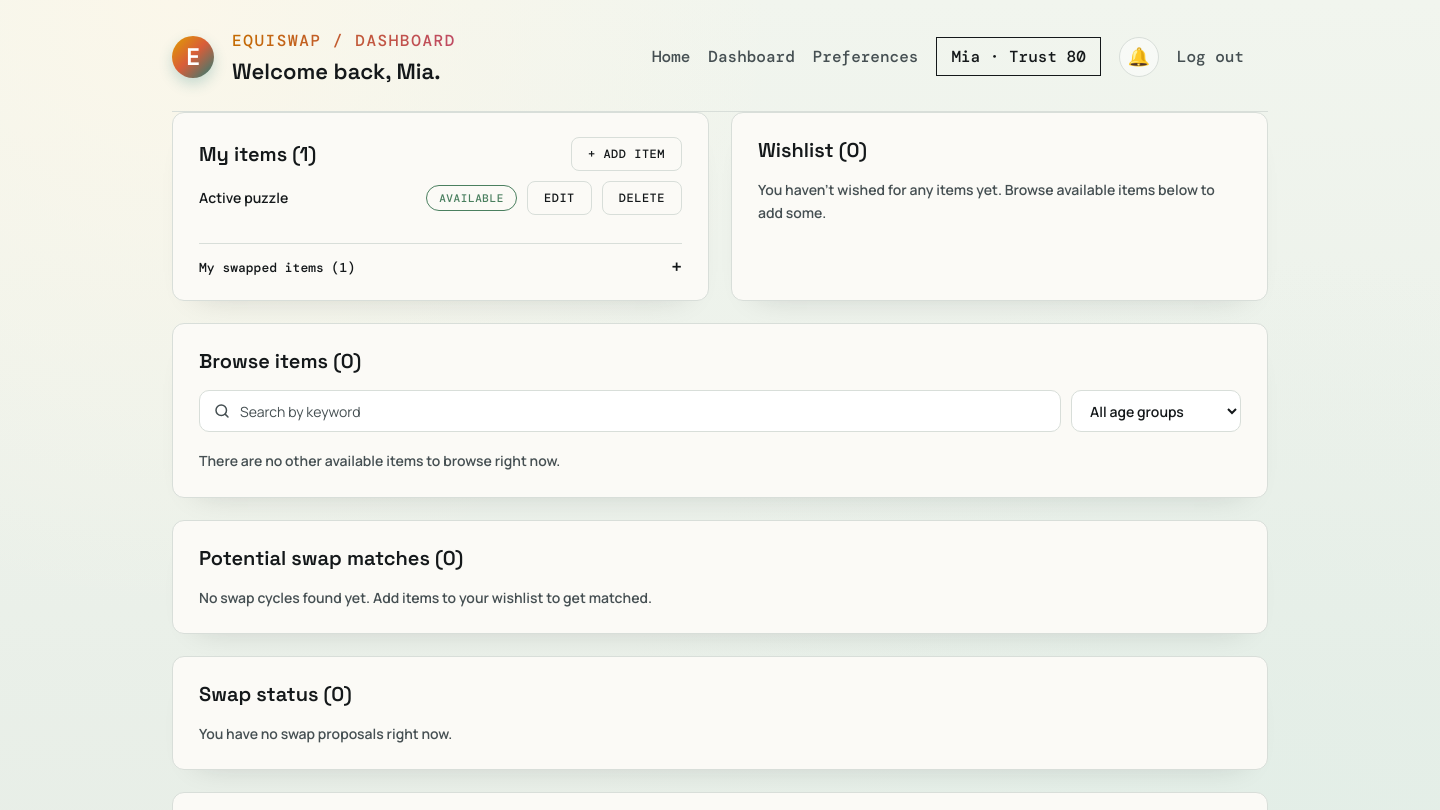
Test case: DashboardPage › moves swapped items to a read-only section
The image size is (1440, 810).
Expected: the heading "My items (1)" is shown, [199,141,316,167]
Expected: the text "Completed swap book" is not shown
Click the button "My swapped items (1) +".
click(269, 267)  # box [199,243,682,276]
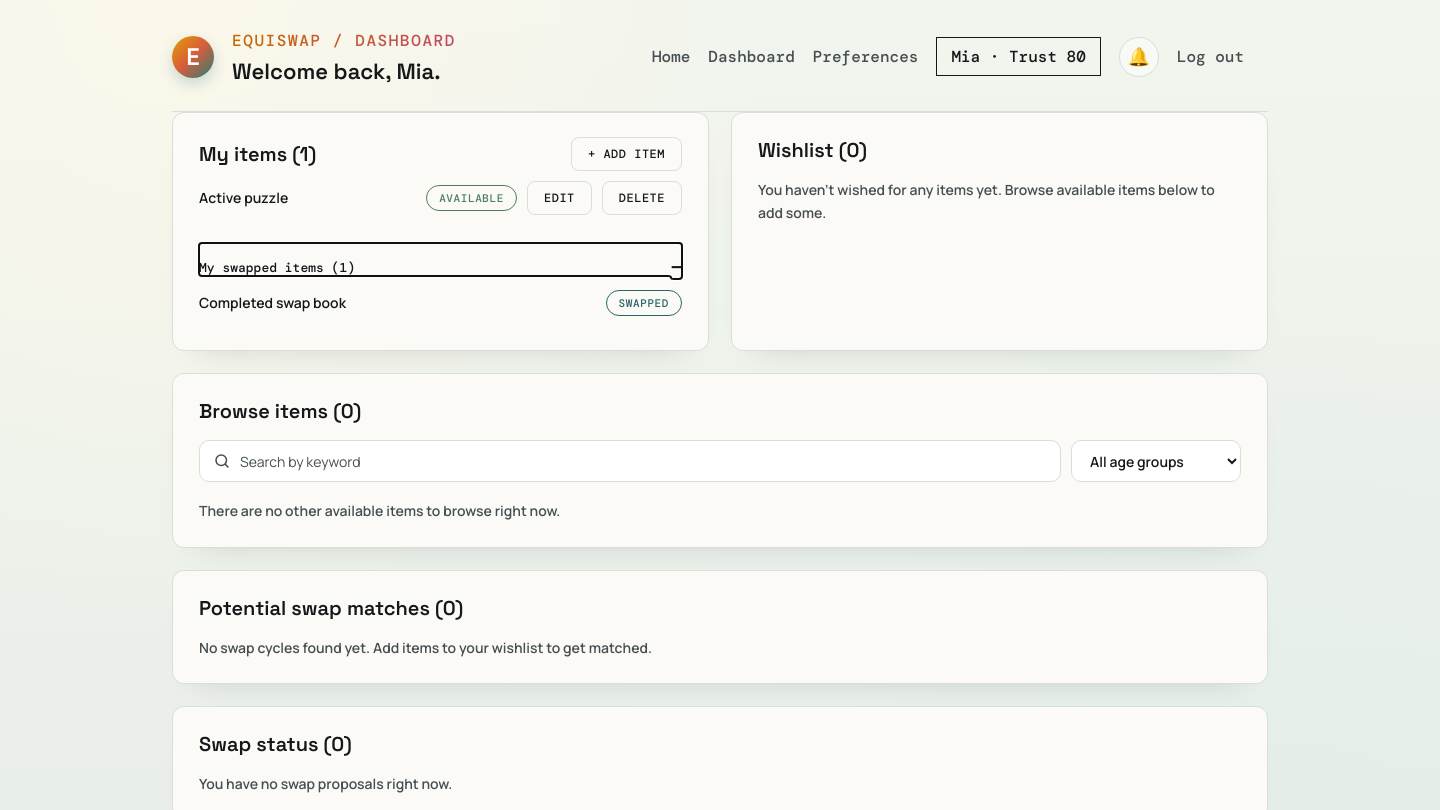
Expected: the text "My swapped items (1)" is shown, [199,259,355,276]
Expected: the text "Completed swap book" is shown, [199,292,346,314]
